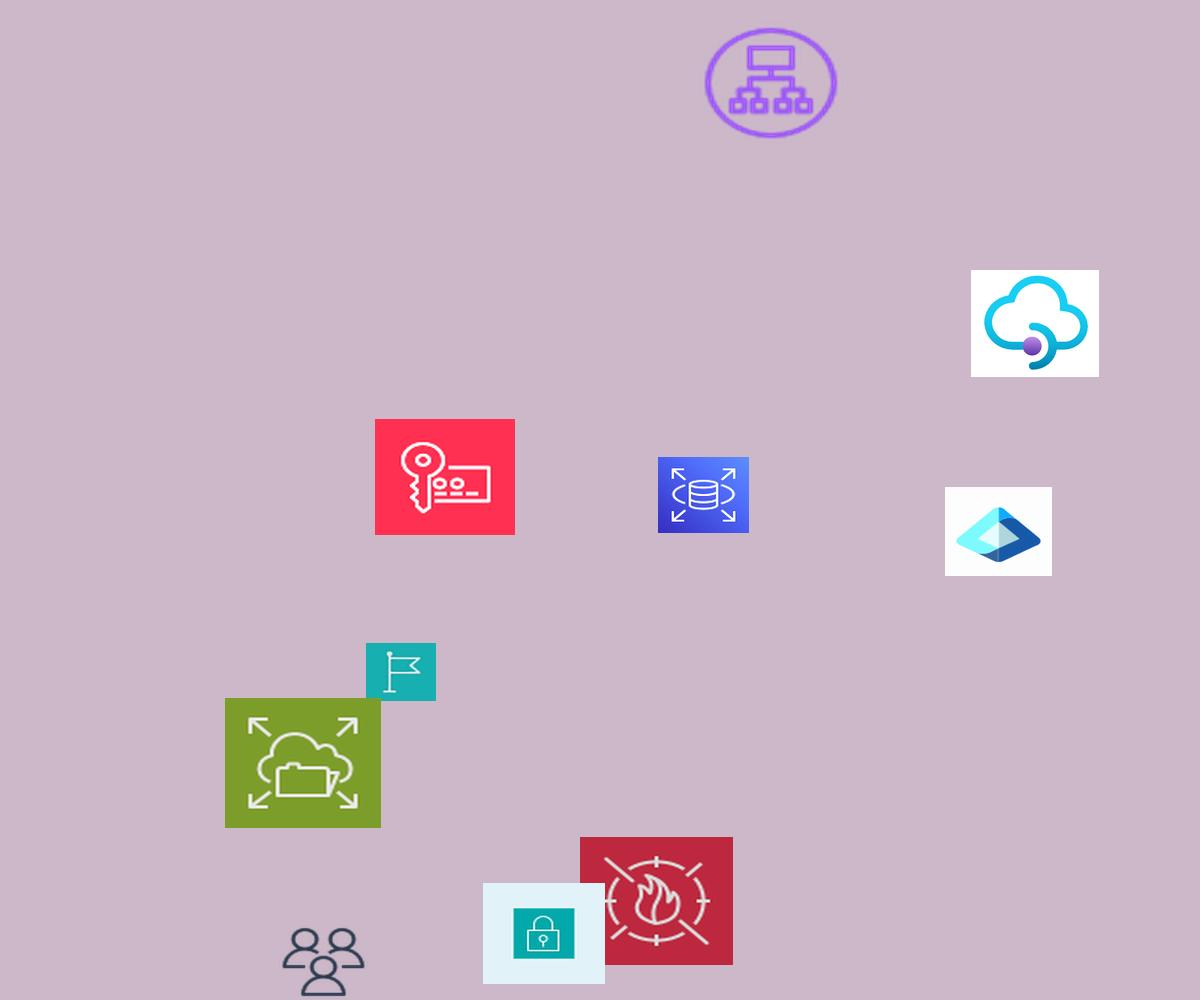AWS-EFS: (225, 698, 381, 828)
AWS-Key-Management-Service: (375, 419, 515, 535)
AWS-Private-subnet: (483, 883, 605, 984)
AWS-RDS: (658, 457, 749, 533)
AWS-Region: (366, 643, 436, 701)
AWS-Res_Elastic-Load-Balancing_Application-Load-Balancer: (699, 23, 843, 143)
AWS-Res_Users: (279, 925, 368, 999)
AWS-WAF: (580, 837, 733, 965)
Azure_api_gateway: (971, 270, 1099, 377)
Azure_microsoft_entra: (945, 487, 1052, 576)
